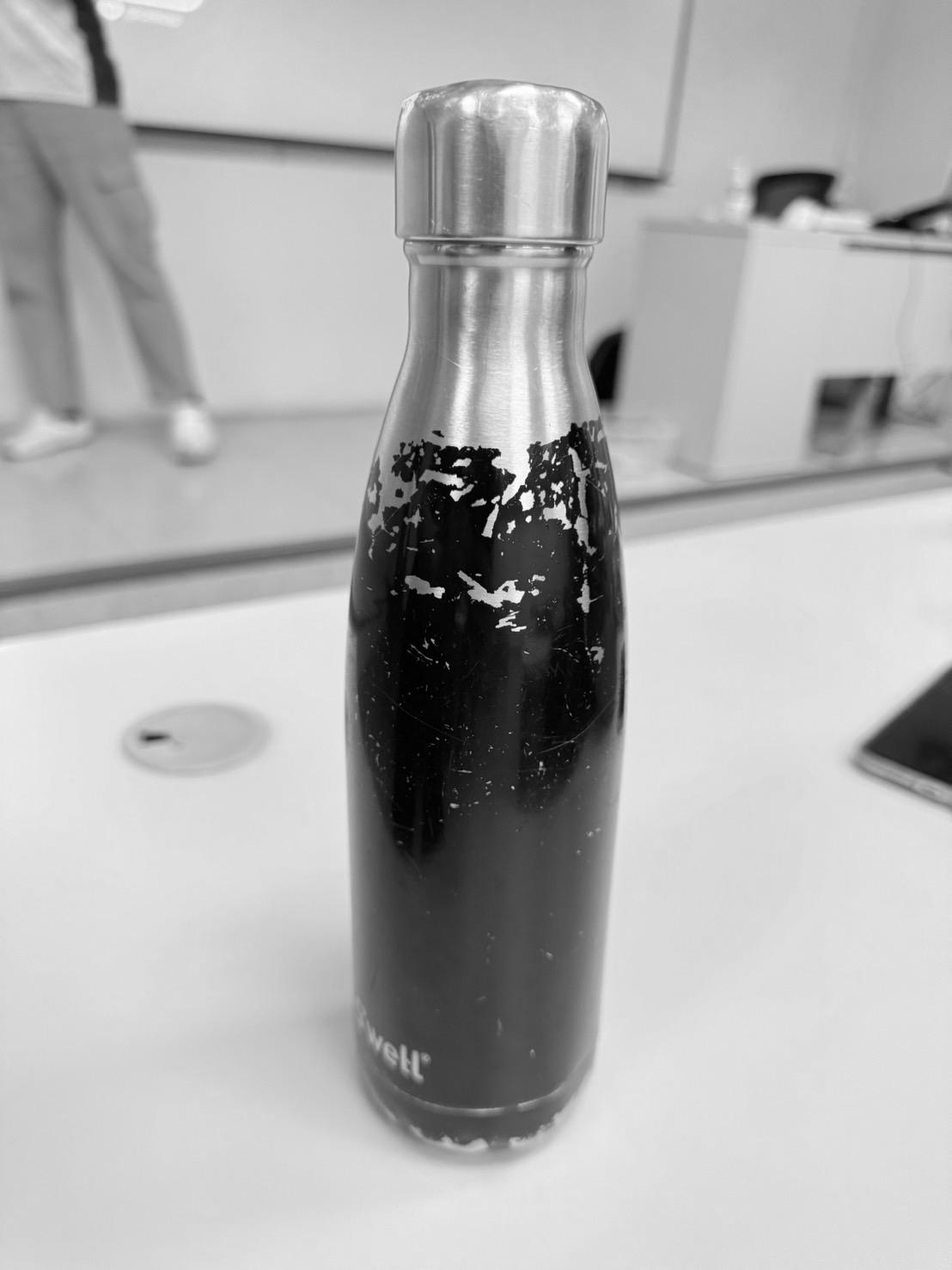glass: (345, 80, 625, 1154)
